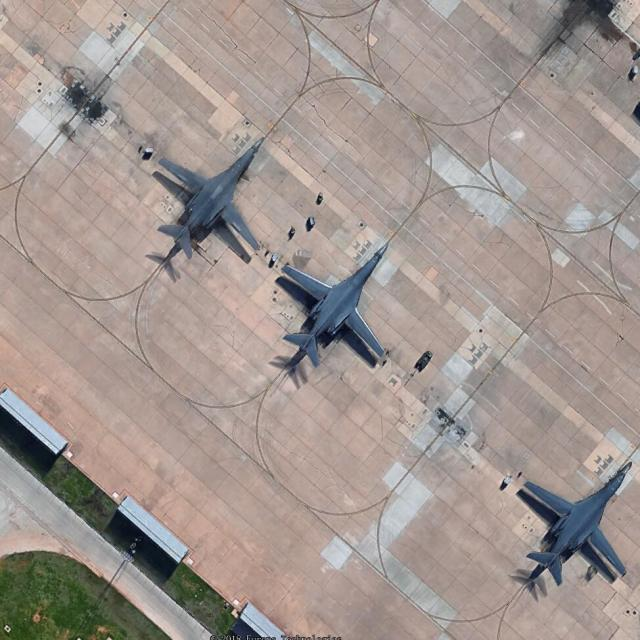fighter jet: (519, 448, 638, 600), (156, 135, 258, 284), (280, 255, 381, 385)
